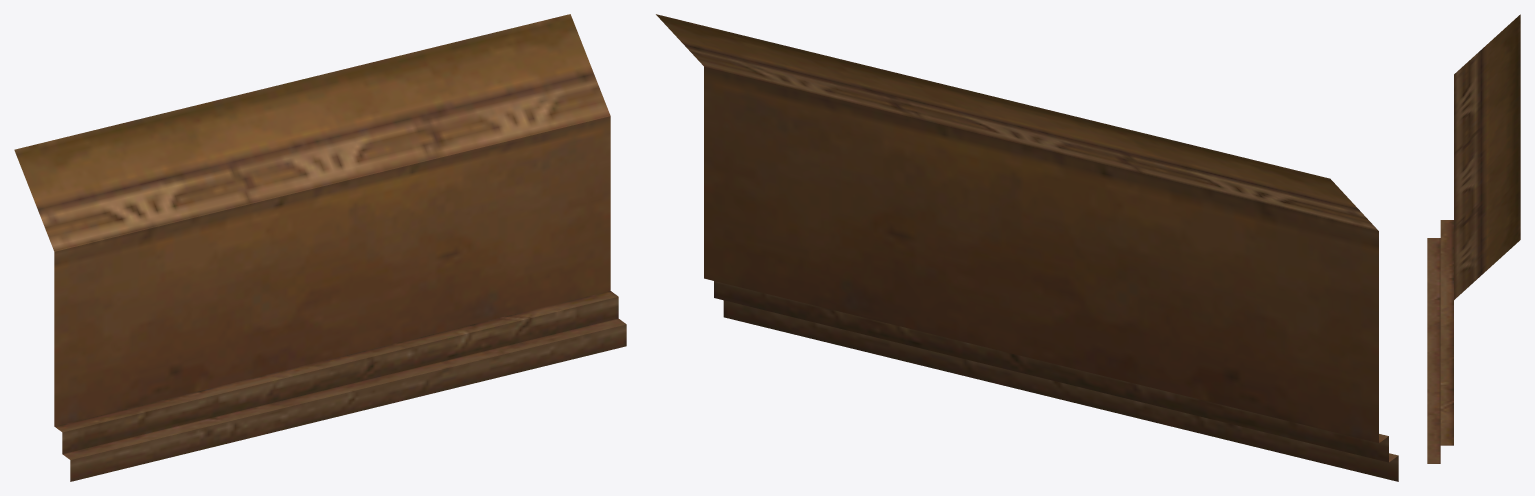
File: shakian_cliff_base2_wall01_01.FBX
3 views of the same model, side by side, from view 1: azimuth 30°, elevation 25°; view 2: azimuth 150°, elevation 25°; view 3: azimuth 270°, elevation 25° (orthographic). The views are drawn at different scales.
Parts seen in each view (by area): view 1: shakian_cliff_base2_wall01_01; view 2: shakian_cliff_base2_wall01_01; view 3: shakian_cliff_base2_wall01_01.
Boxes of the visible parts, bbox=[...] form: shakian_cliff_base2_wall01_01: bbox=[14, 14, 626, 481]; shakian_cliff_base2_wall01_01: bbox=[656, 14, 1398, 481]; shakian_cliff_base2_wall01_01: bbox=[1427, 14, 1520, 463].
Size of the model in its own units: 4 by 2 by 0.7.
